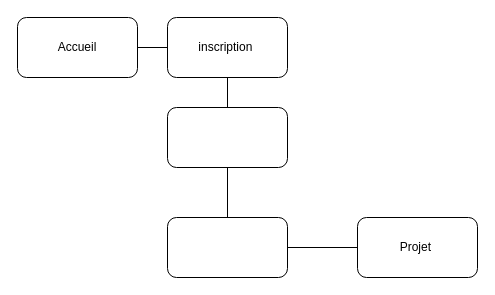
This 495x295 diagram has some shape labels left out. The centre of each missing label's shape, as x and y in pixels:
Connection Compte: point 227,137
DashBoard: point 227,247
